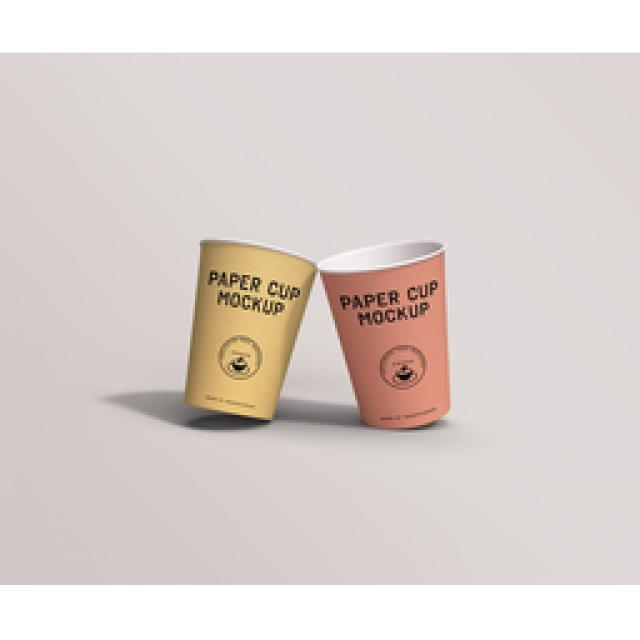paper_cups: (321, 237, 452, 430), (188, 237, 312, 424)
